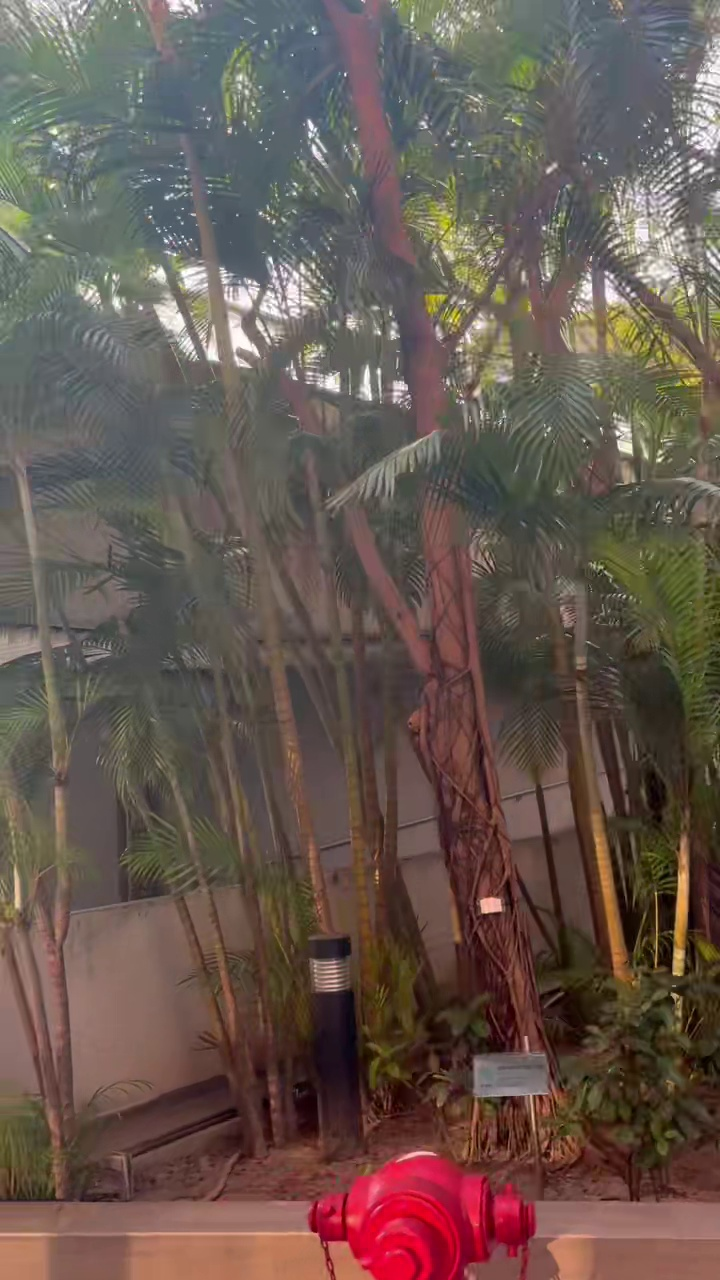Ficus benjamina: (323, 0, 544, 1050)
